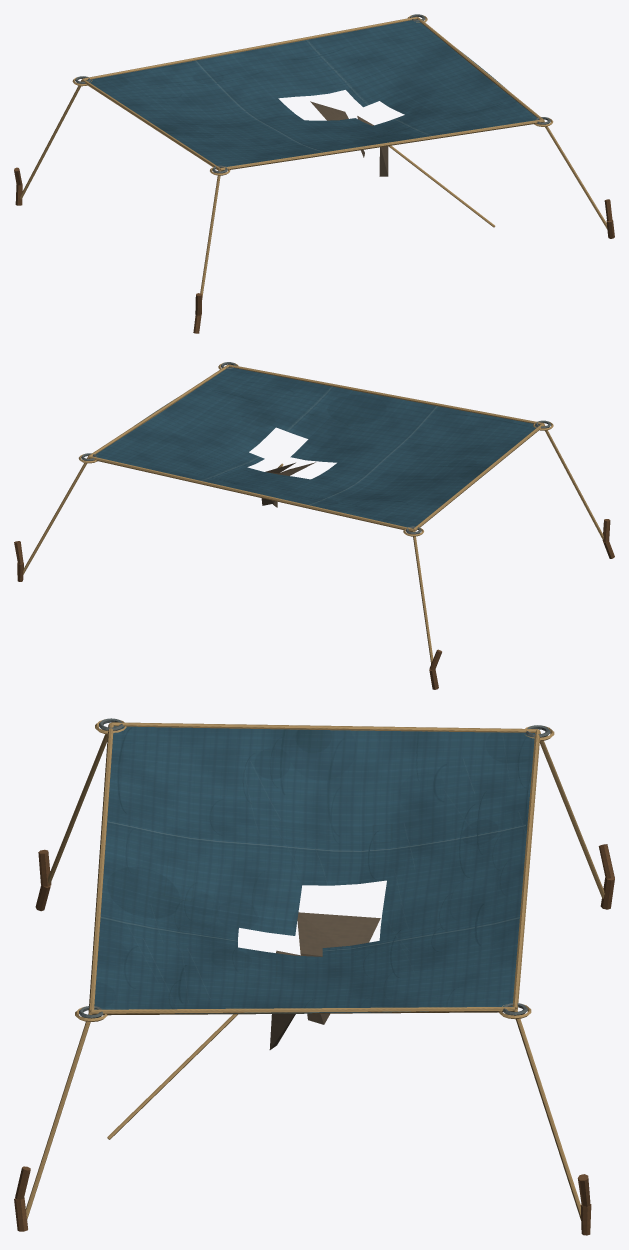
File: pr-001_tarp_presenning__damaged.obj
3 renders of one model, top to bottom at view 1: azimuth 30°, elevation 25°; view 2: azimuth 150°, elevation 25°; view 3: azimuth 270°, elevation 25°, orthographic. The views are drawn at different scales.
Parts seen in each view (by area): view 1: pr-001_tarp_presenning__damaged; view 2: pr-001_tarp_presenning__damaged; view 3: pr-001_tarp_presenning__damaged.
Boxes of the visible parts, bbox=[...] form: pr-001_tarp_presenning__damaged: bbox=[14, 14, 614, 333]; pr-001_tarp_presenning__damaged: bbox=[14, 362, 614, 689]; pr-001_tarp_presenning__damaged: bbox=[14, 718, 614, 1235].
Size of the model in its own units: 2.8 by 0.8647 by 2.11.
5 materials, 5 textured.
